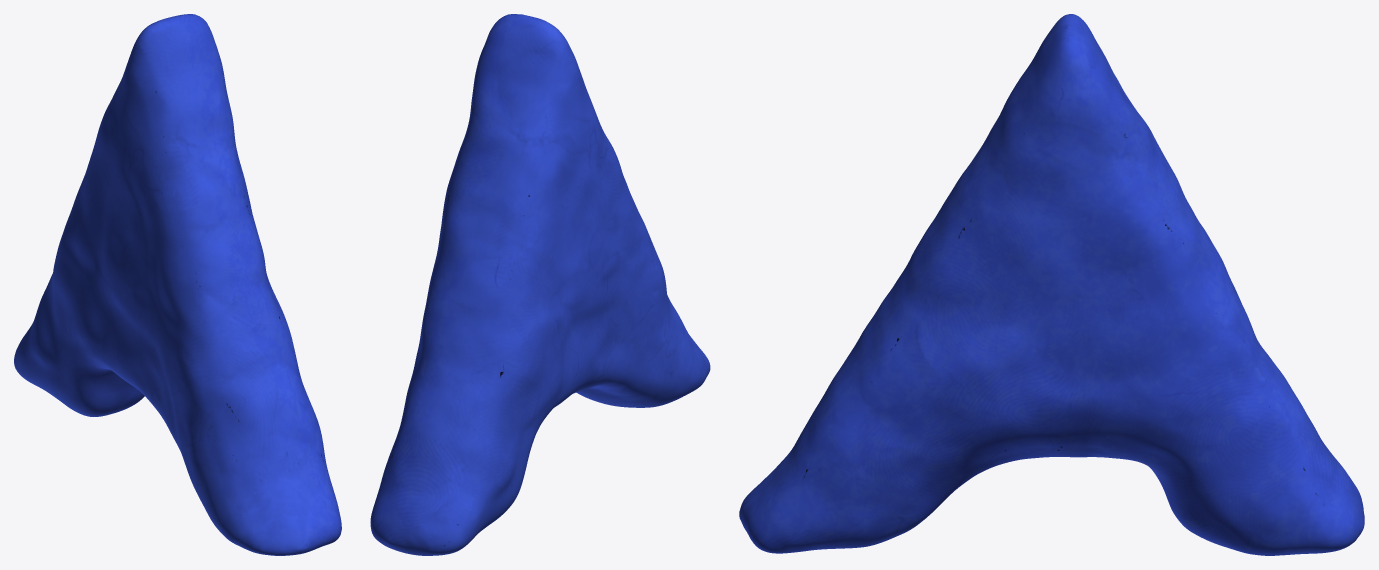
The model's file is Буква А .gltf.
3 views of the same model, side by side, from view 1: azimuth 30°, elevation 25°; view 2: azimuth 150°, elevation 25°; view 3: azimuth 270°, elevation 25° (orthographic). The views are drawn at different scales.
Parts seen in each view (by area): view 1: lOWpOLE; view 2: lOWpOLE; view 3: lOWpOLE.
Part boxes in pixels (bbox=[...]): lOWpOLE: bbox=[14, 14, 341, 555]; lOWpOLE: bbox=[370, 14, 710, 555]; lOWpOLE: bbox=[739, 14, 1364, 555].
Size of the model in its own units: 0.0667 by 0.2396 by 0.2608.
1 material, 1 textured.
